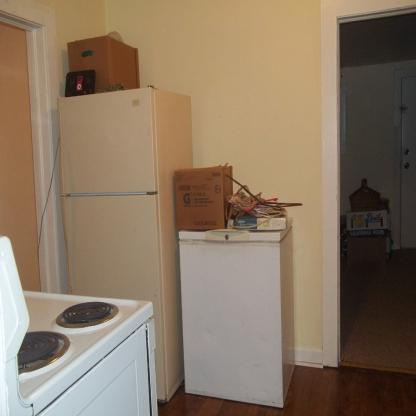door: (0, 8, 49, 298), (400, 74, 415, 251)
knob: (404, 162, 410, 171)
